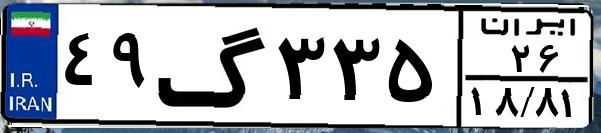1: (560, 70, 590, 125), (470, 70, 495, 125)
2: (508, 27, 537, 80)
3: (270, 28, 330, 110), (330, 28, 385, 110)
4: (57, 26, 110, 100)
5: (385, 28, 445, 110)
6: (537, 27, 568, 80)
8: (495, 70, 520, 125), (535, 70, 560, 125)
9: (110, 28, 156, 98)
گ: (156, 12, 270, 120)
